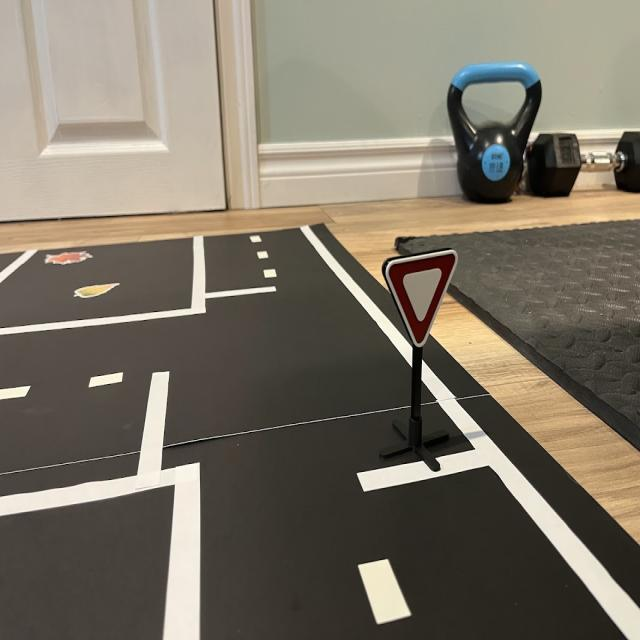sign_yield: (383, 251, 459, 349)
